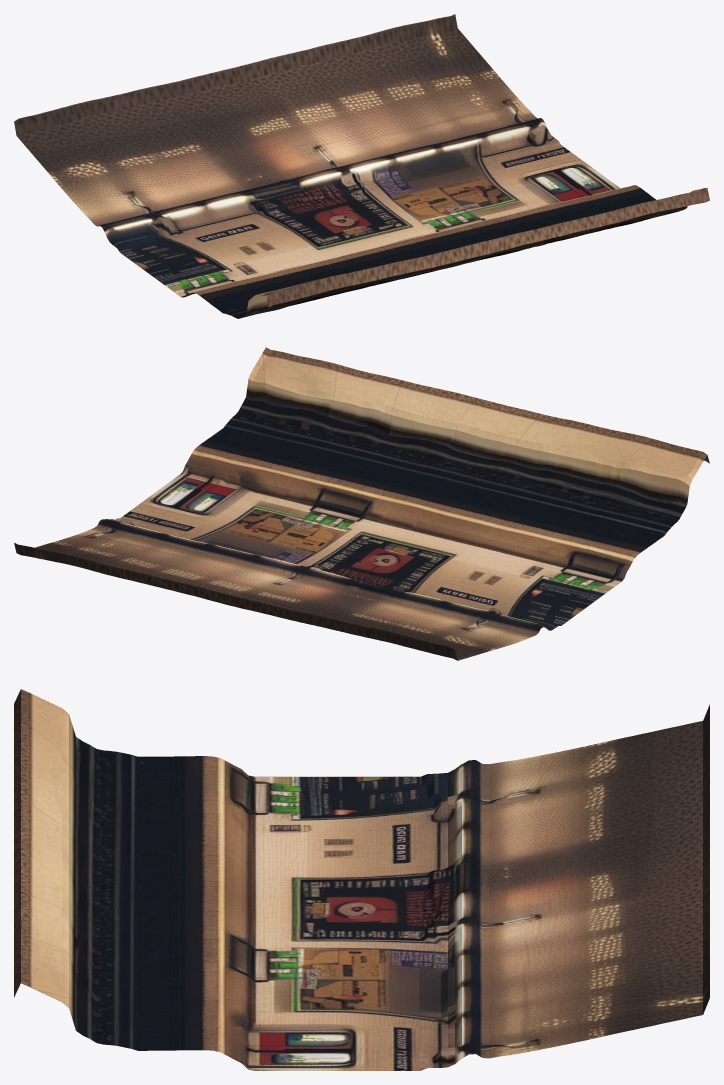
The model's file is Metro.fbx.
3 renders of one model, top to bottom at view 1: azimuth 30°, elevation 25°; view 2: azimuth 150°, elevation 25°; view 3: azimuth 270°, elevation 25°, orthographic. The views are drawn at different scales.
Visible parts, largest first — view 1: Relief_2_5D; view 2: Relief_2_5D; view 3: Relief_2_5D.
Boxes of the visible parts, x1=… form: Relief_2_5D: x1=14, y1=14, x2=709, y2=318; Relief_2_5D: x1=14, y1=347, x2=709, y2=660; Relief_2_5D: x1=14, y1=689, x2=709, y2=1070.
Size of the model in its own units: 2 by 0.2906 by 2.
1 material, 1 textured.
